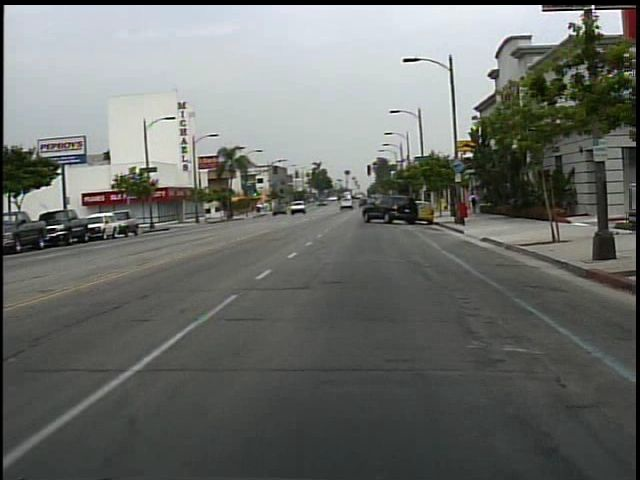person: (469, 189, 483, 219)
